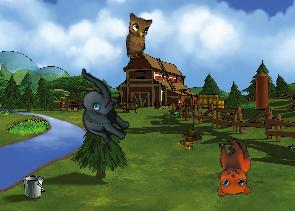bear: (204, 135, 258, 201)
elephant: (57, 67, 145, 149)
owl: (124, 12, 155, 60)
